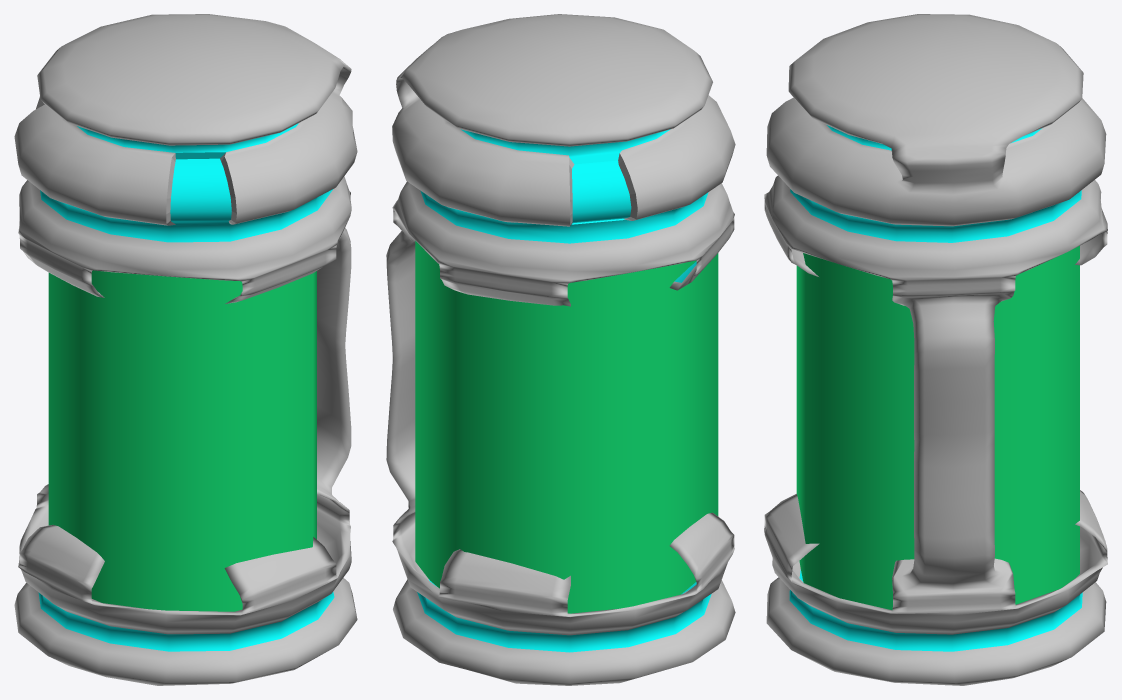
The model's file is capsula.FBX.
3 renders of one model, left to right at view 1: azimuth 30°, elevation 25°; view 2: azimuth 150°, elevation 25°; view 3: azimuth 270°, elevation 25°, orthographic.
Parts seen in each view (by area): view 1: Box004, Box002; view 2: Box004, Box002; view 3: Box004, Box002.
Boxes of the visible parts, x1,y1,x2,y2 form: Box004: (14,14,357,685); Box002: (48,270,316,611); Box004: (386,14,735,685); Box002: (415,240,718,613); Box004: (764,14,1107,685); Box002: (796,246,1079,609).
Bounding box in the file's own units: 35.02 × 62.46 × 33.89.
2 materials, 1 textured.
